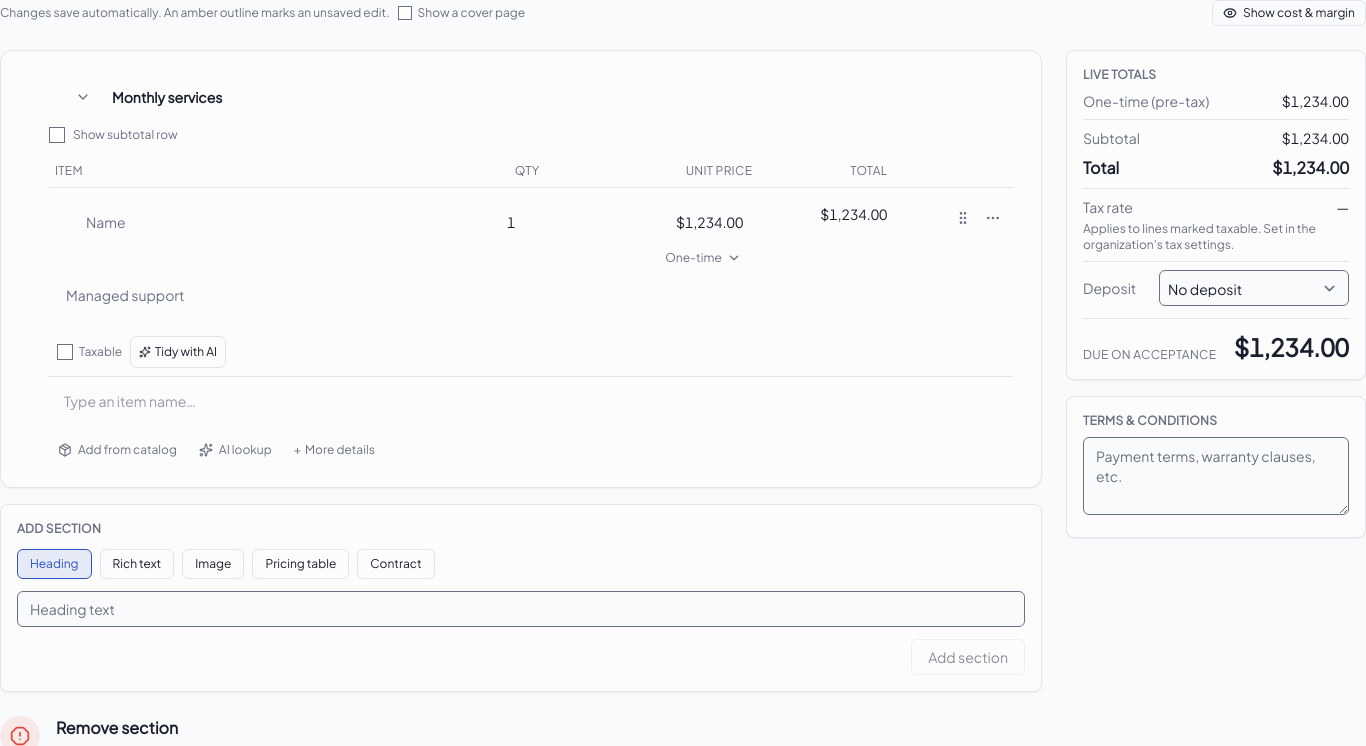
QuoteLineRows — money-formatted price/cost inputs › unit price renders currency-formatted while blurred and the raw decimal while focused
Click the button with test id "quote-block-add-line-toggle-blk-1": (334, 450) [285,437,384,463]
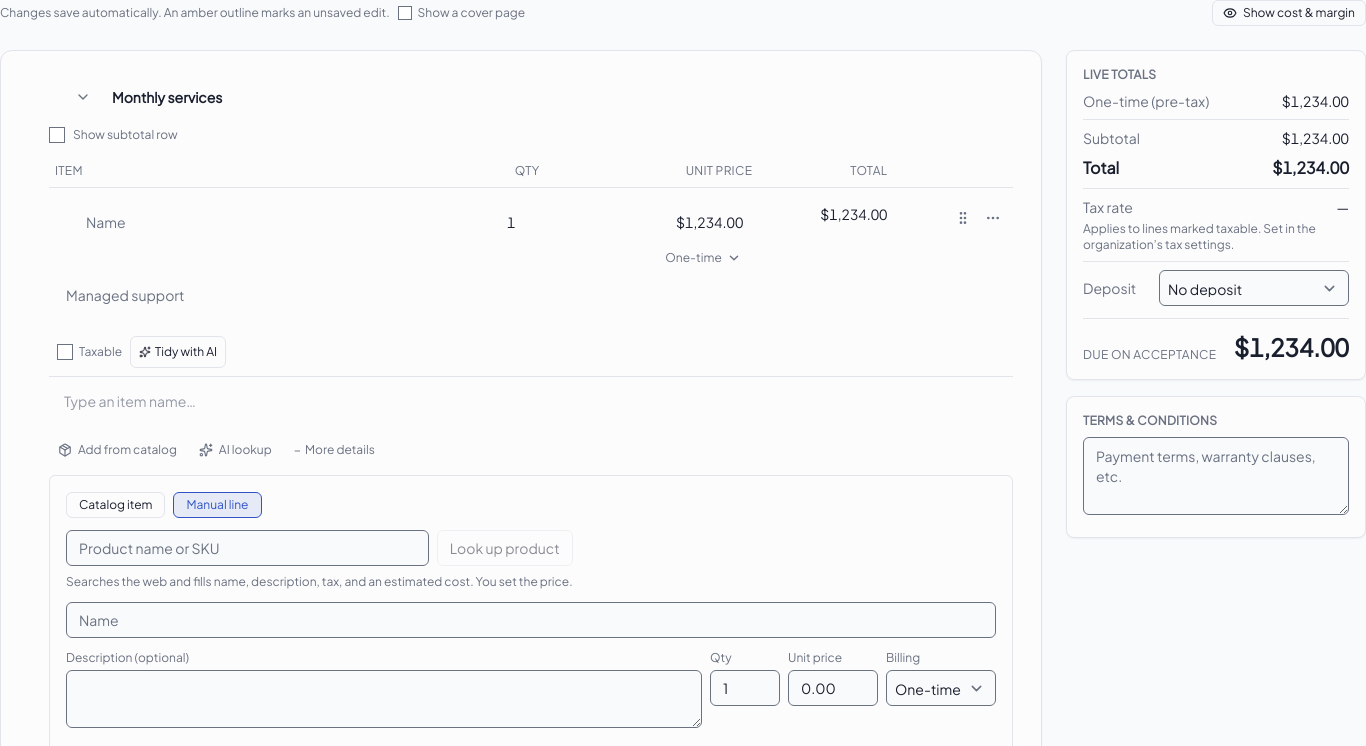
Focus the field with test id "quote-line-price-line-1": (696, 222) [640,204,752,240]
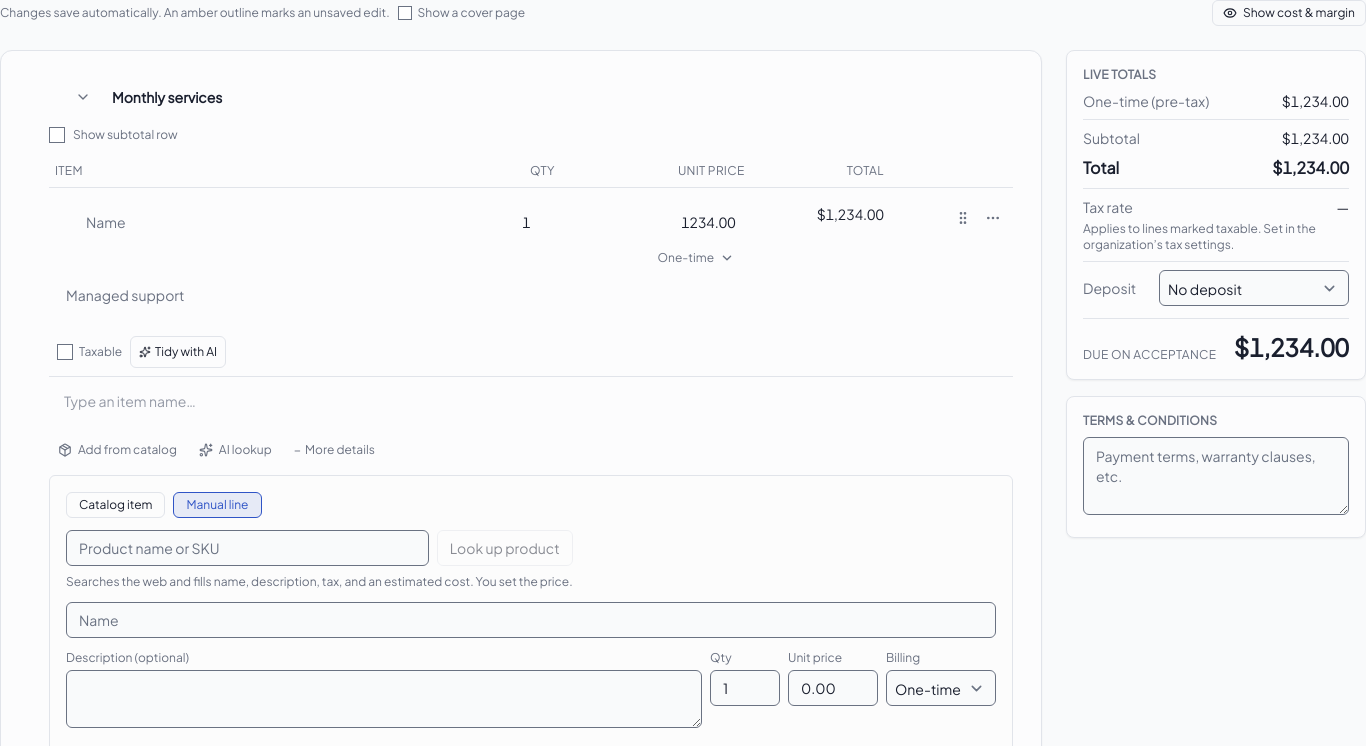
Now the field with test id "quote-line-price-line-1" holds "1234.00", box [652,204,744,240]
